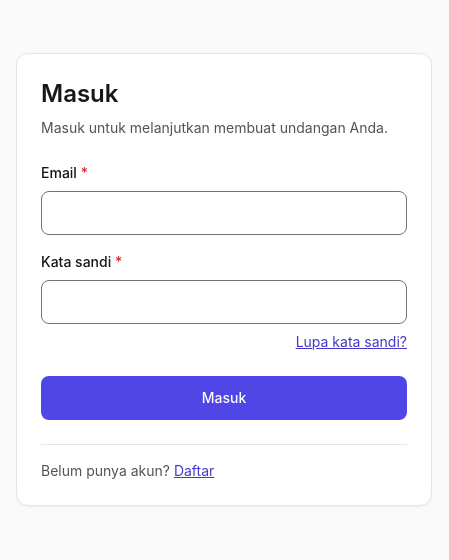
Scenario: error states (card step 5) › reports an offline request as a connection problem
Step 1. Type "budi@example.test" into the field labelled "Email *" → (224, 212), box top-left (41, 190), bottom-right (407, 234)
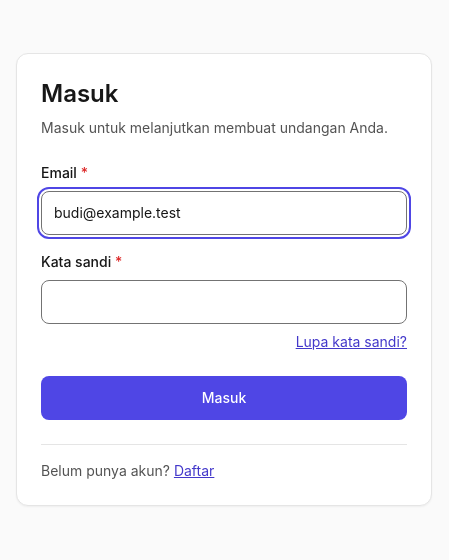
Step 2. Type "rahasia123" into the password field labelled "Kata sandi *" → (224, 302), box top-left (41, 280), bottom-right (407, 324)
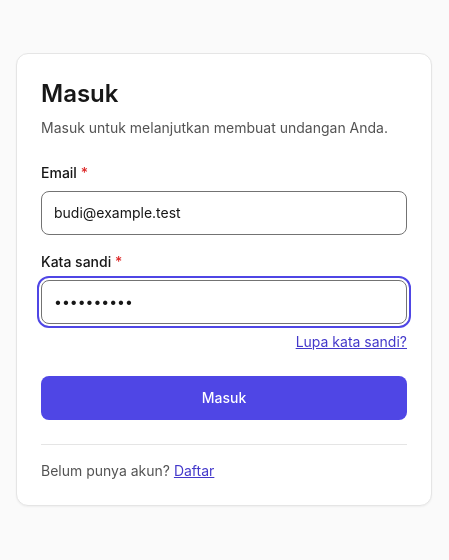
Step 3. Click the button "Masuk" → (224, 398), box top-left (41, 376), bottom-right (407, 420)
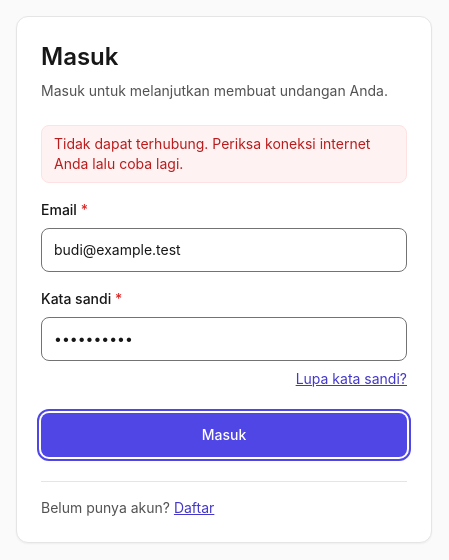
Expected: the message shows "koneksi internet", top-left (54, 134), bottom-right (370, 172)
